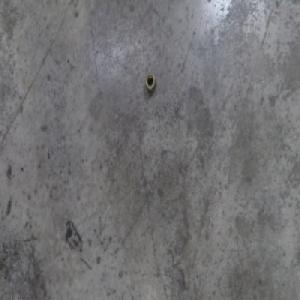Nut: (144, 70, 157, 93)
